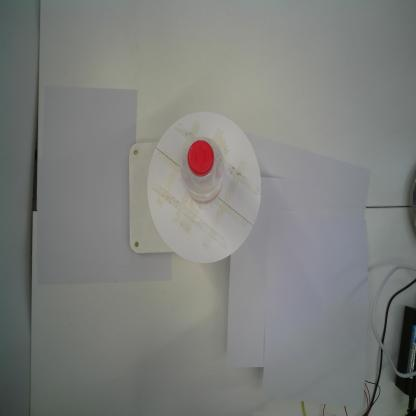Drink: (178, 131, 228, 207)
